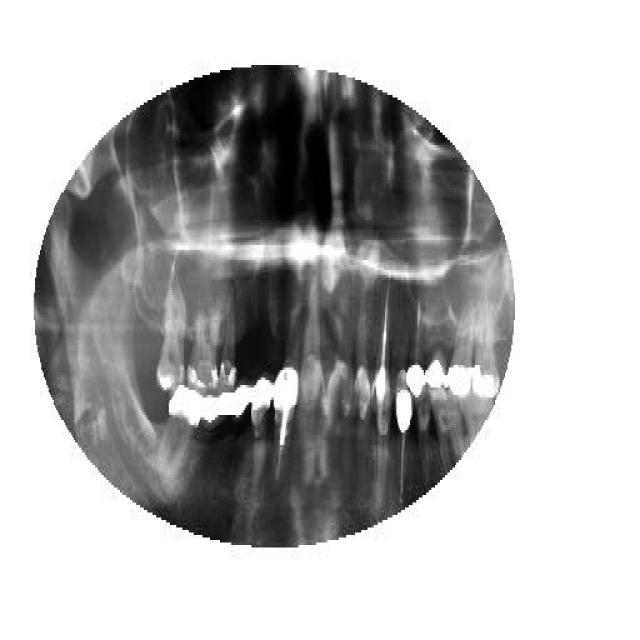Fillings: (158, 385, 202, 485), (275, 302, 304, 392), (474, 302, 500, 400), (448, 297, 473, 395), (250, 378, 274, 470), (424, 300, 446, 390), (407, 290, 425, 395), (218, 387, 234, 475), (234, 388, 250, 458), (204, 390, 218, 465)
Implant: (373, 278, 392, 410), (272, 390, 298, 482), (393, 385, 412, 505)
